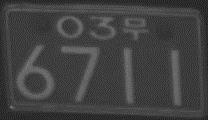0: (55, 14, 84, 40)
1: (112, 46, 146, 105), (160, 49, 190, 107)
3: (88, 15, 116, 41)
6: (15, 43, 54, 100)
7: (59, 44, 101, 104)
무: (122, 17, 148, 39)
